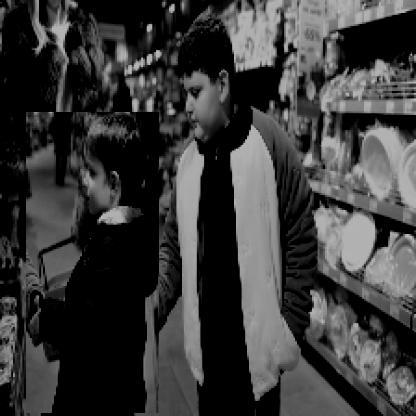child: (27, 113, 161, 415)
